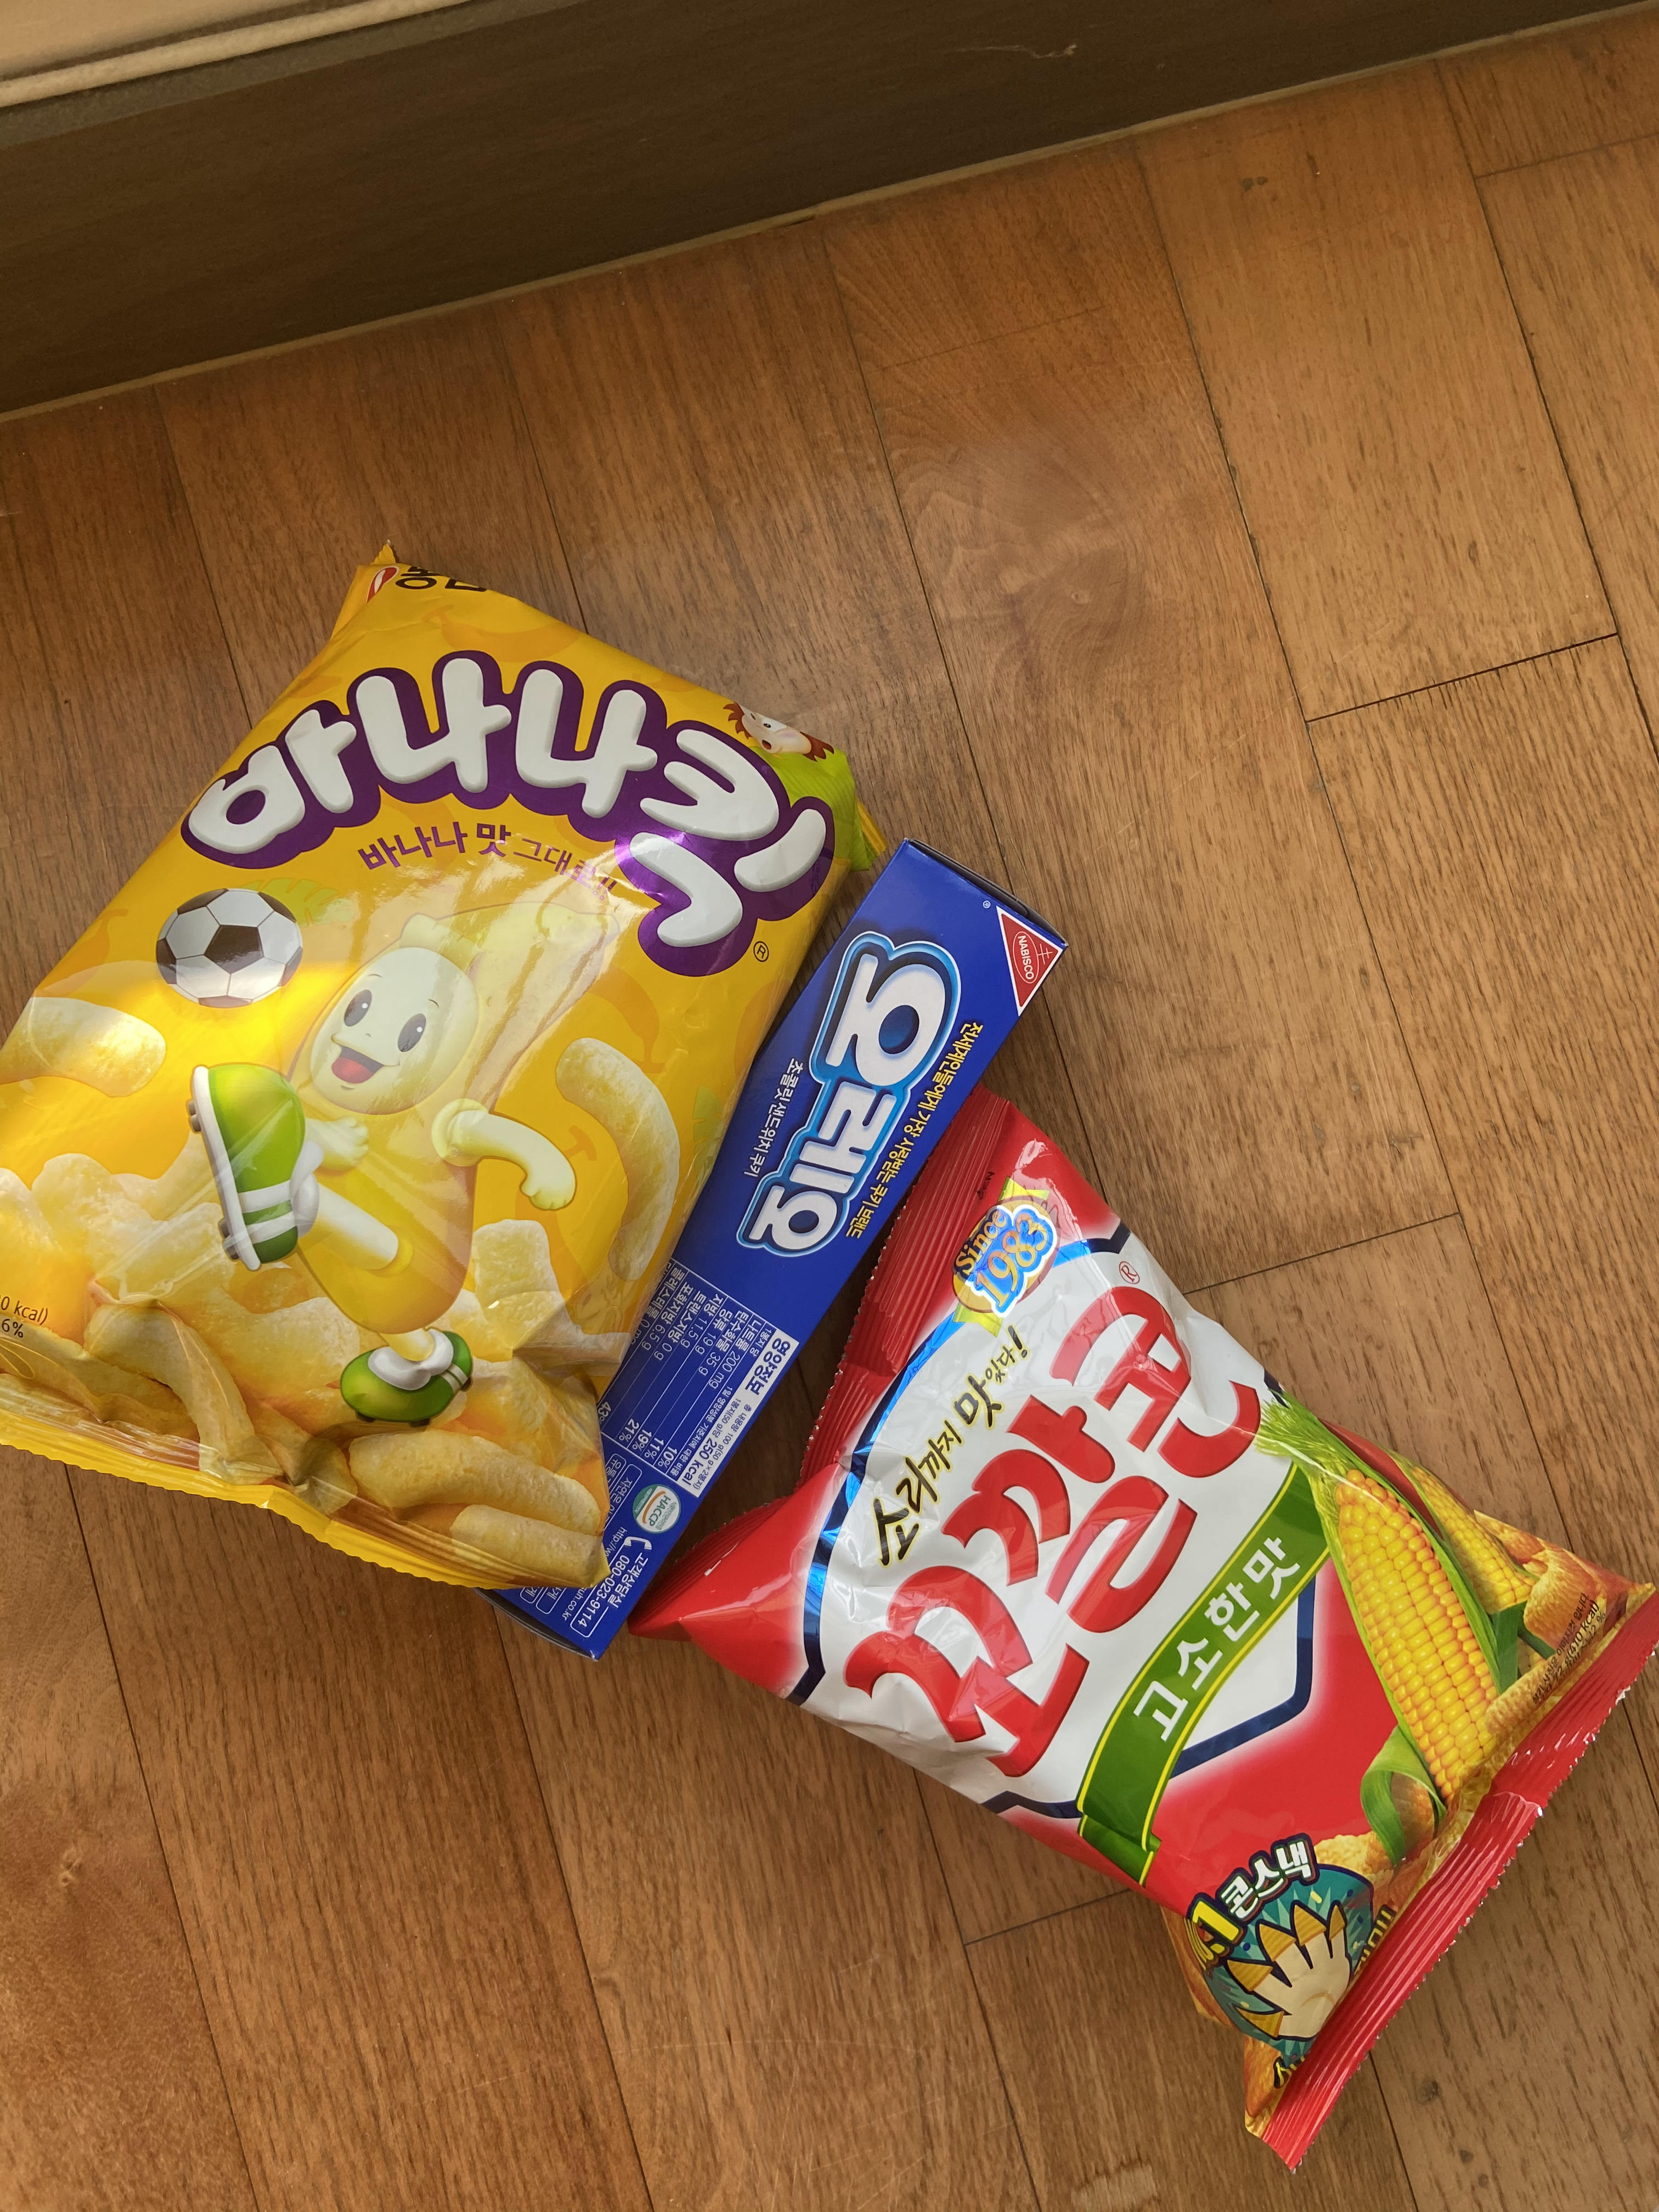banana: (0, 502, 880, 1611)
ggoggalcon: (606, 1057, 1659, 2181)
oreo: (471, 826, 1075, 1663)
